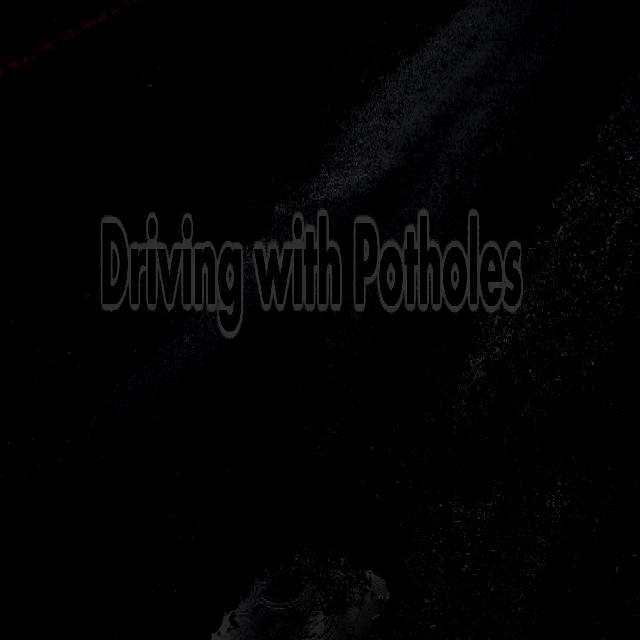Pothole: (158, 462, 401, 640)
